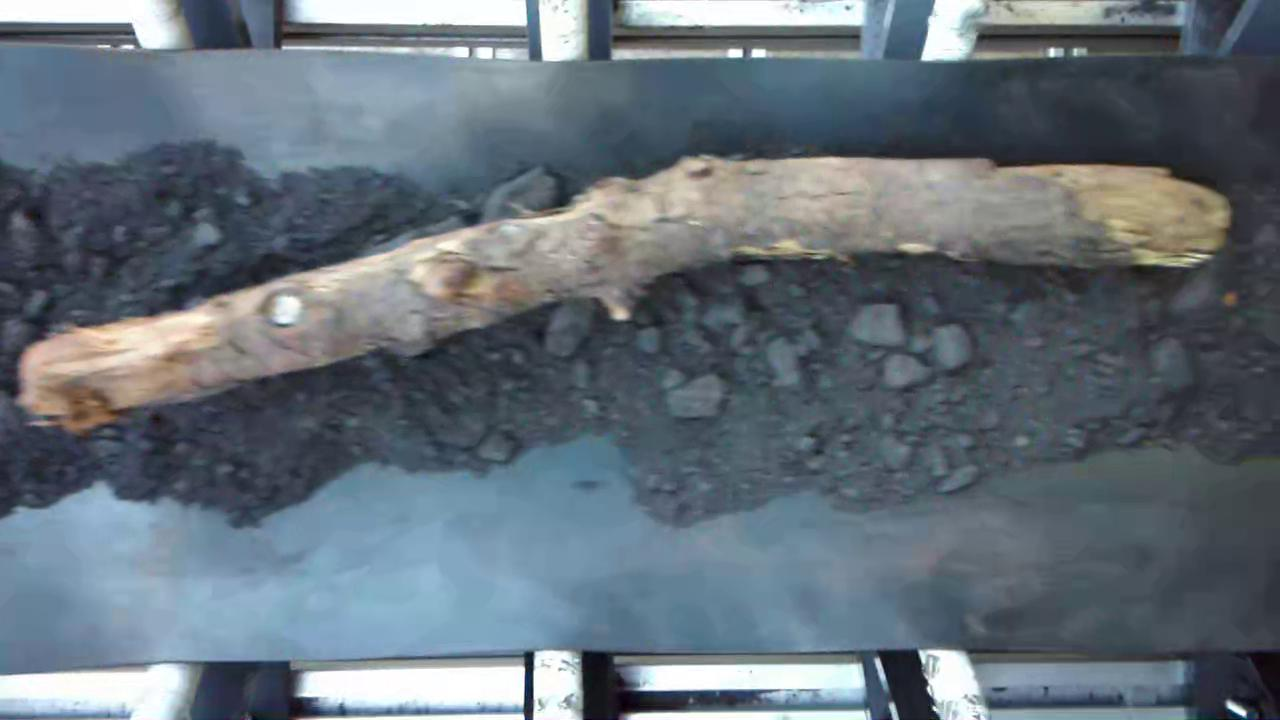conveyor: (3, 65, 1280, 635)
